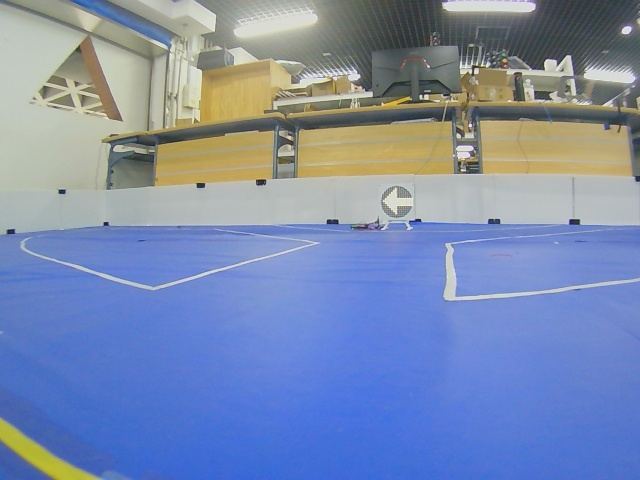left_yellow: (381, 186, 414, 219)
